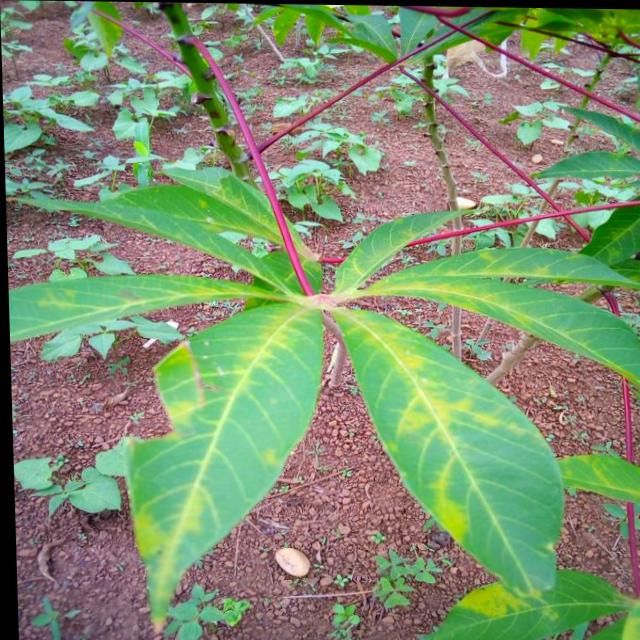Mosaico: (83, 176, 596, 569)
